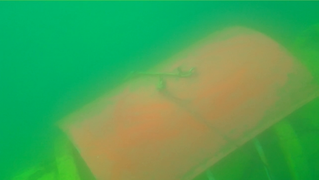leak: (56, 25, 319, 180)
pipe: (194, 97, 319, 180), (1, 136, 95, 180), (284, 24, 319, 84)
